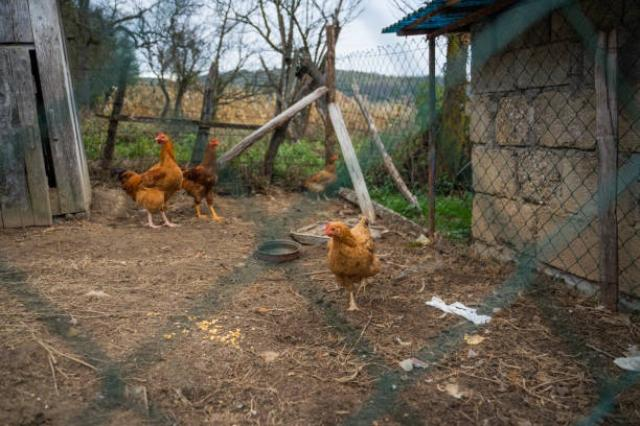Chicken: (123, 131, 183, 229), (322, 215, 381, 311), (185, 138, 225, 221), (304, 151, 338, 204)
